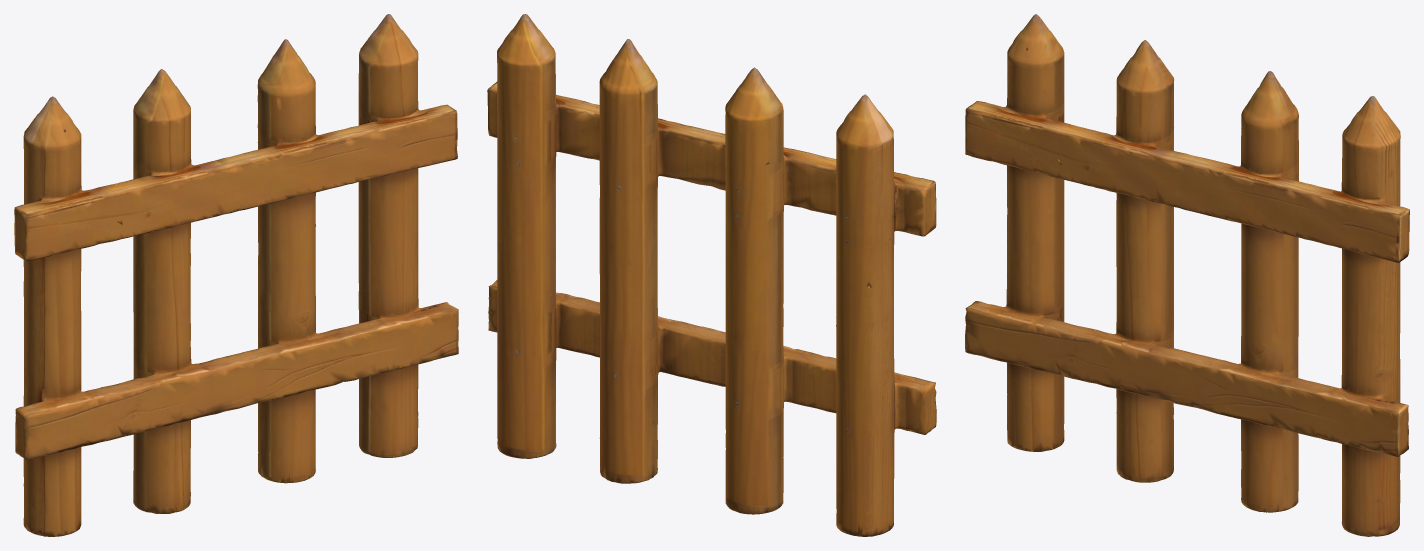
File: cage_0801155752.fbx
3 renders of one model, left to right at view 1: azimuth 30°, elevation 25°; view 2: azimuth 150°, elevation 25°; view 3: azimuth 330°, elevation 25°, orthographic.
Visible parts, largest first — view 1: Mesh_0; view 2: Mesh_0; view 3: Mesh_0.
Boxes of the visible parts, x1,y1,x2,y2 form: Mesh_0: [14, 14, 458, 536]; Mesh_0: [487, 14, 936, 536]; Mesh_0: [965, 14, 1409, 536].
Size of the model in its own units: 200 by 191 by 30.7.
1 material, 1 textured.
